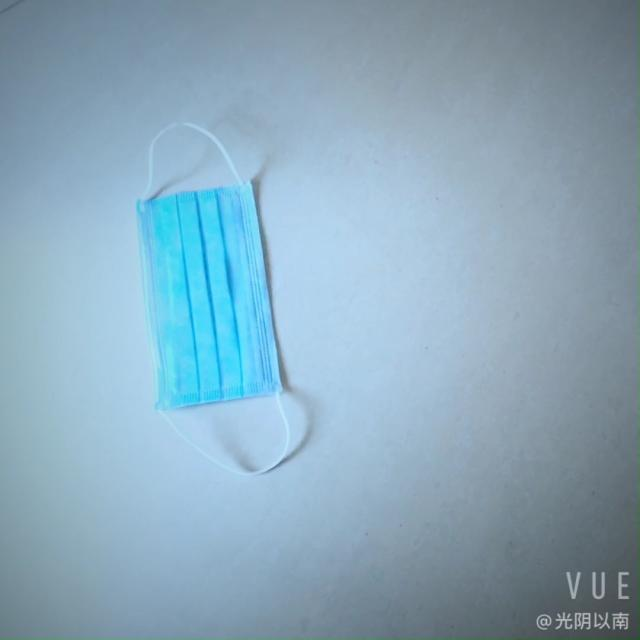face mask: (142, 156, 290, 412)
